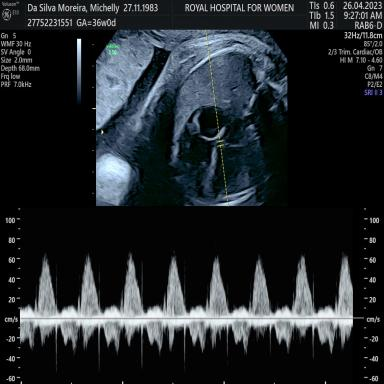Ultrasound-Waves: (24, 218, 352, 384)
